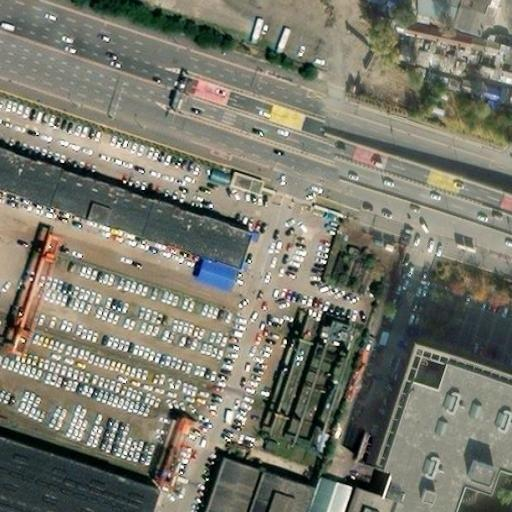building: (362, 346, 512, 512), (201, 455, 356, 511), (0, 220, 60, 349), (149, 408, 189, 483), (418, 30, 476, 78), (468, 37, 512, 85), (188, 248, 235, 286), (384, 23, 428, 63), (441, 70, 493, 98), (224, 164, 263, 192), (446, 2, 479, 33), (485, 78, 512, 111), (406, 0, 448, 21)
